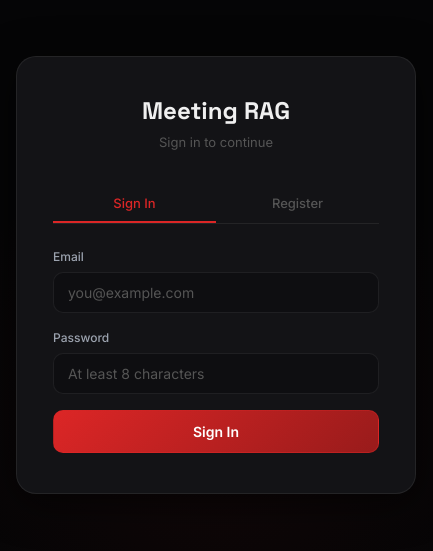
AuthPage › clears error when switching tabs
The image size is (433, 551).
Trigger an error
Click the button "Sign In" below "Password". click: (216, 431)
box: [53,410,379,453]
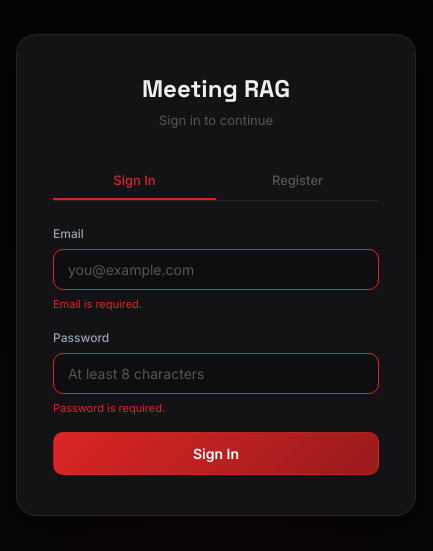
Now the text "Email is required." is shown, box [53,297,142,311]
Switch to register — error should clear
Click the button "Register". click: (298, 181)
box: [216,162,379,200]
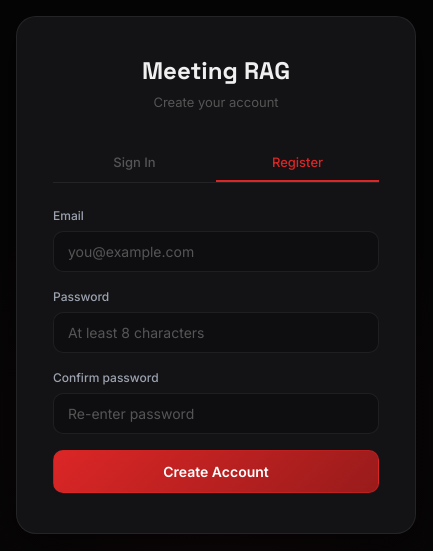
Now the text "Email is required" is gone
